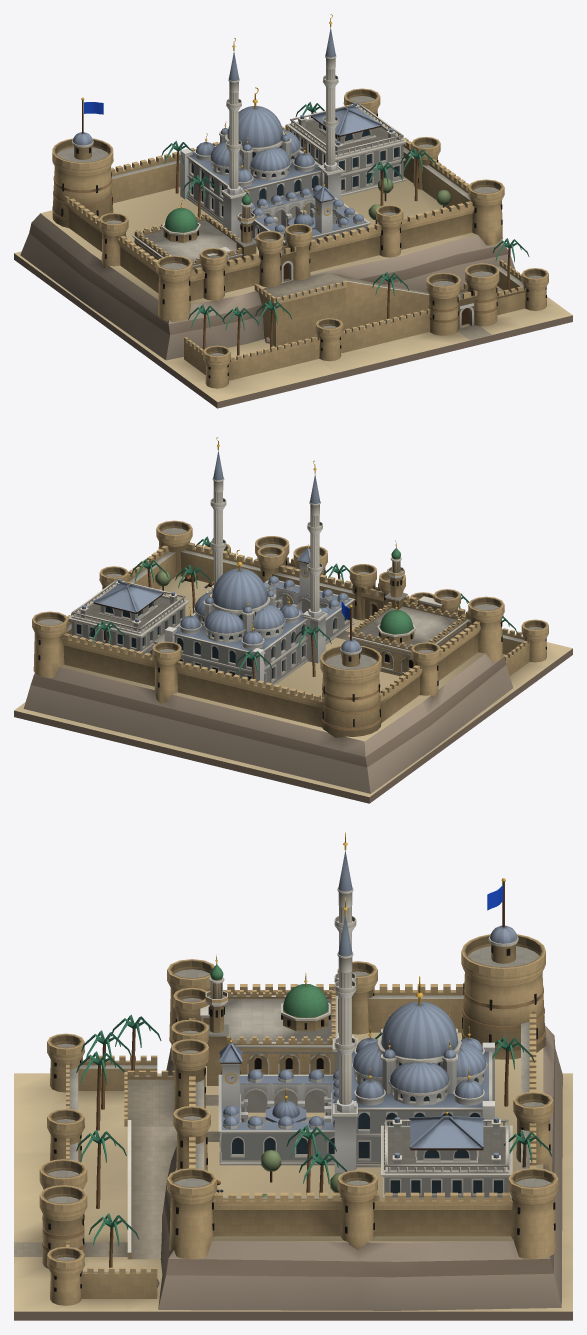
Rendered from lm_kahirekalesi.glb.
3 renders of one model, top to bottom at view 1: azimuth 30°, elevation 25°; view 2: azimuth 150°, elevation 25°; view 3: azimuth 270°, elevation 25°, orthographic. The views are drawn at different scales.
Parts seen in each view (by area): view 1: lm_kahirekalesi; view 2: lm_kahirekalesi; view 3: lm_kahirekalesi.
Part boxes in pixels (left/top/right/bottom): lm_kahirekalesi: left=14, top=14, right=572, bottom=408; lm_kahirekalesi: left=14, top=437, right=572, bottom=803; lm_kahirekalesi: left=14, top=832, right=572, bottom=1320.
Size of the model in its own units: 2.28 by 1.53 by 2.26.
Materials: 1 (1 with a texture image).
